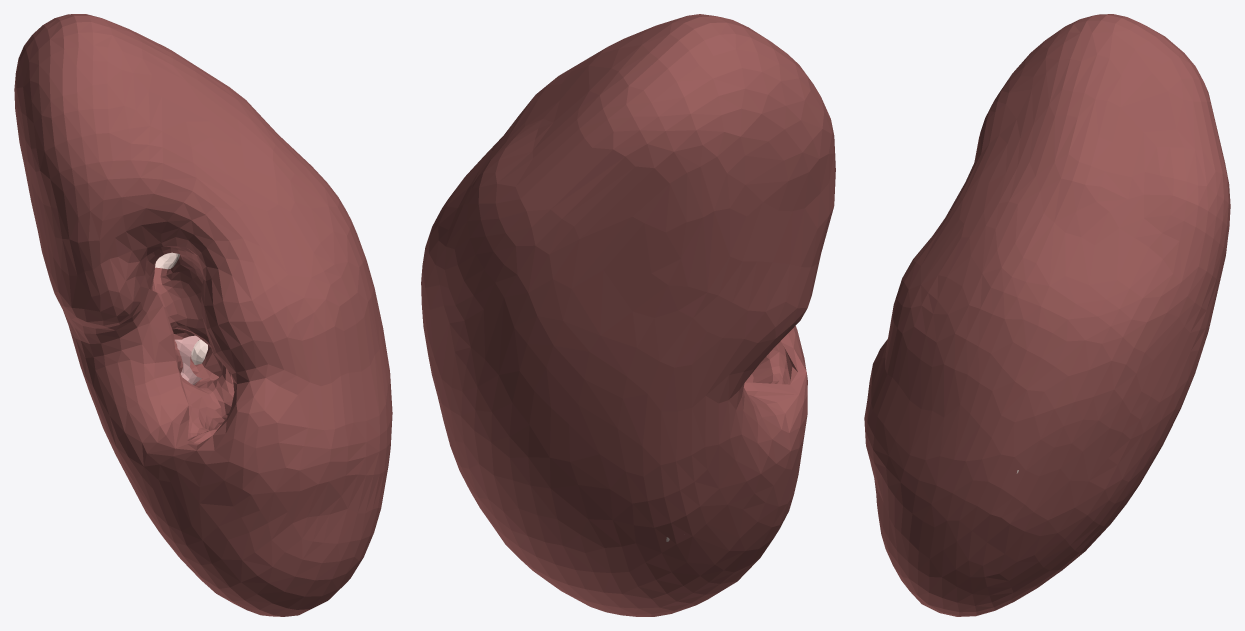
Rendered from VH_F_Kidney_L_0.4.glb.
The picture shows the model from 3 angles, left to right: view 1: azimuth 30°, elevation 25°; view 2: azimuth 150°, elevation 25°; view 3: azimuth 270°, elevation 25°; orthographic projection. The views are drawn at different scales.
Visible parts, largest first — view 1: VH_F_kidney_capsule_L, VH_F_hilum_of_kidney_L, VH_F_renal_pyramid_L_g, VH_F_renal_column_L; view 2: VH_F_kidney_capsule_L, VH_F_hilum_of_kidney_L; view 3: VH_F_kidney_capsule_L.
Part boxes in pixels (box(x1,y1,x2,y2)): VH_F_kidney_capsule_L: box(14, 14, 392, 616); VH_F_hilum_of_kidney_L: box(145, 246, 234, 444); VH_F_renal_pyramid_L_g: box(175, 335, 201, 384); VH_F_renal_column_L: box(155, 252, 207, 364); VH_F_kidney_capsule_L: box(421, 14, 835, 616); VH_F_hilum_of_kidney_L: box(744, 341, 790, 384); VH_F_kidney_capsule_L: box(864, 14, 1230, 616).
Bounding box in the file's own units: 0.0732 × 0.1249 × 0.0777.
